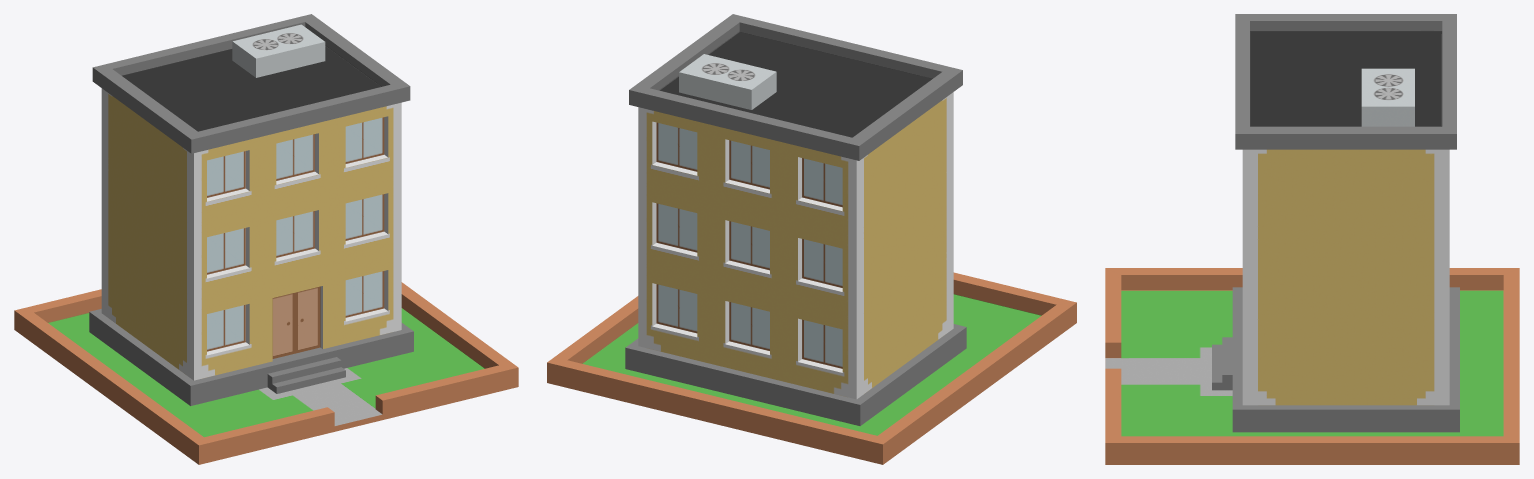
Rendered from Building_03.FBX.
The picture shows the model from 3 angles, left to right: view 1: azimuth 30°, elevation 25°; view 2: azimuth 150°, elevation 25°; view 3: azimuth 270°, elevation 25°; orthographic projection. The views are drawn at different scales.
Parts seen in each view (by area): view 1: Building_03; view 2: Building_03; view 3: Building_03.
Boxes of the visible parts, bbox=[...] form: Building_03: bbox=[14, 14, 518, 464]; Building_03: bbox=[547, 14, 1076, 464]; Building_03: bbox=[1105, 14, 1519, 464].
Bounding box in the file's own units: 93.56 × 93.56 × 78.58.
1 material, 1 textured.
